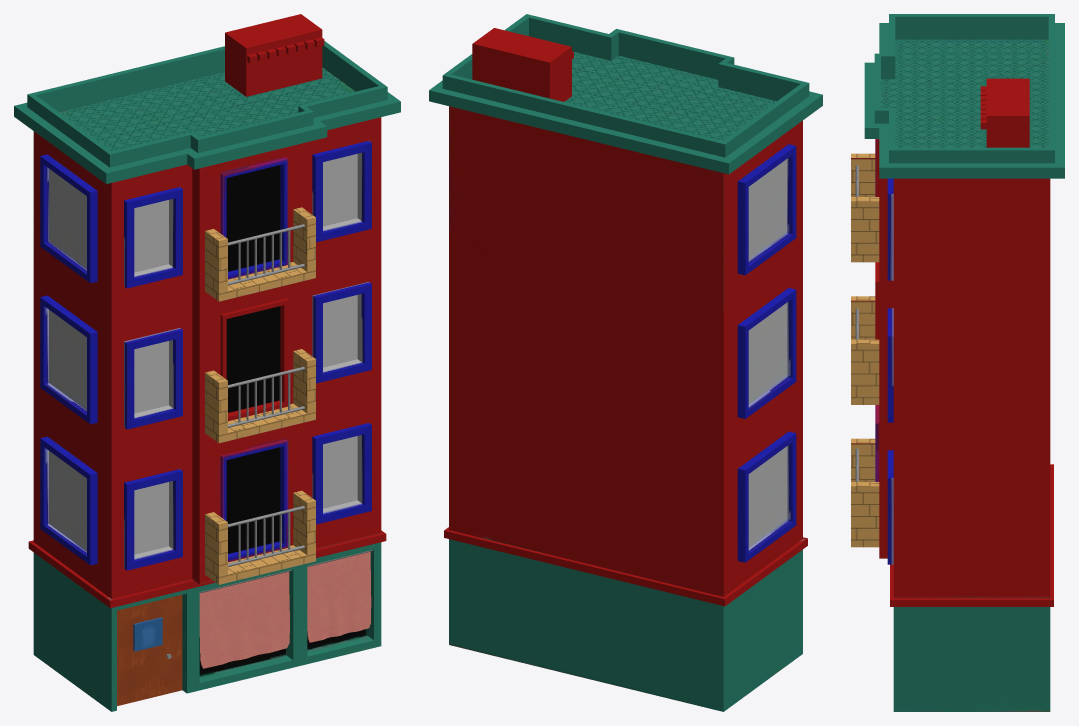
File: it-sf-palazzo3.glb
3 views of the same model, side by side, from view 1: azimuth 30°, elevation 25°; view 2: azimuth 150°, elevation 25°; view 3: azimuth 270°, elevation 25° (orthographic).
Visible parts, largest first — view 1: Object_2; view 2: Object_2; view 3: Object_2.
Boxes of the visible parts, x1,y1,x2,y2 form: Object_2: (14,14,400,711); Object_2: (429,14,822,711); Object_2: (851,14,1064,711).
Bounding box in the file's own units: 10.93 × 20.77 × 6.82.
Materials: 1 (1 with a texture image).
